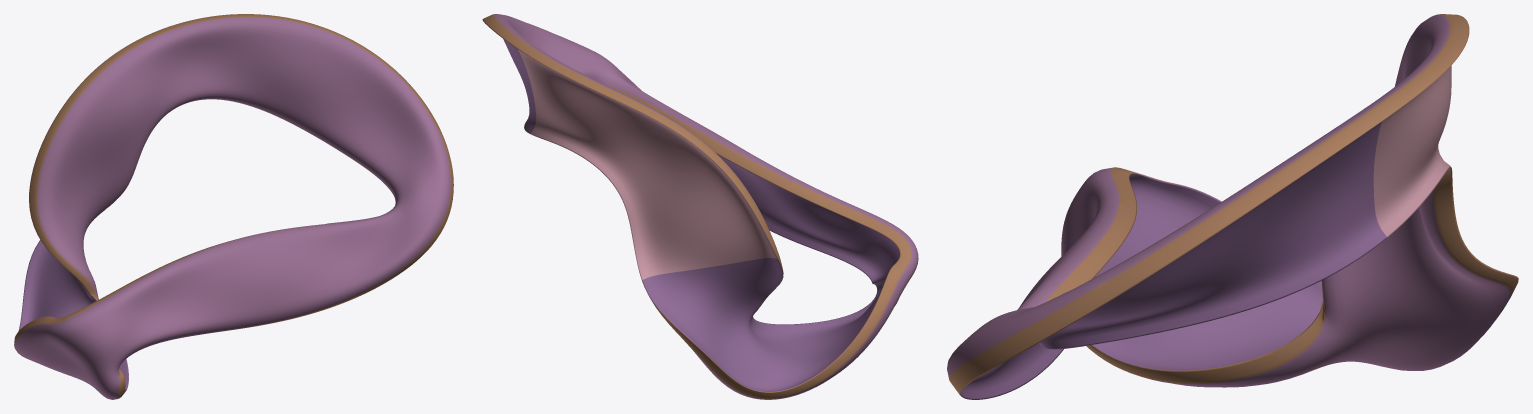
File: phase-wake-loop.glb
3 renders of one model, left to right at view 1: azimuth 30°, elevation 25°; view 2: azimuth 150°, elevation 25°; view 3: azimuth 270°, elevation 25°, orthographic. The views are drawn at different scales.
Visible parts, largest first — view 1: one_piece_twisted_wake; view 2: one_piece_twisted_wake; view 3: one_piece_twisted_wake.
Part boxes in pixels (x1,y1,x2,y2): one_piece_twisted_wake: (14,14,453,399); one_piece_twisted_wake: (482,14,918,399); one_piece_twisted_wake: (947,14,1518,399).
Size of the model in its own units: 188 by 128 by 141.
